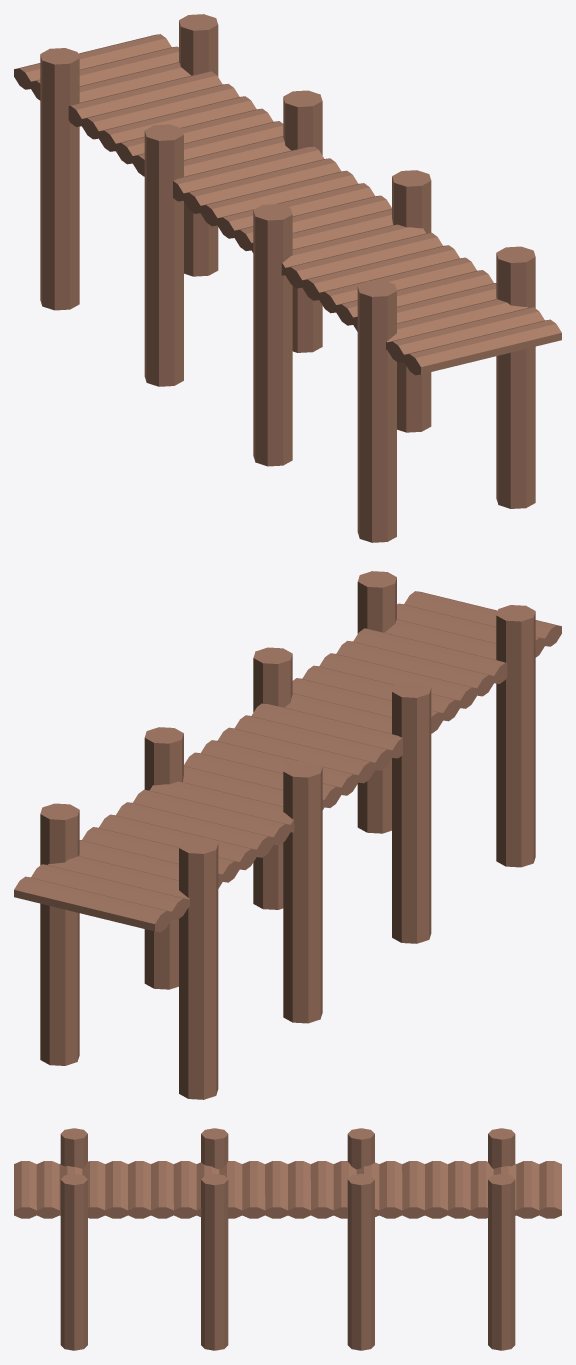
File: Quayside.fbx
The picture shows the model from 3 angles, top to bottom: view 1: azimuth 30°, elevation 25°; view 2: azimuth 150°, elevation 25°; view 3: azimuth 270°, elevation 25°; orthographic projection. The views are drawn at different scales.
Parts seen in each view (by area): view 1: Cube, Cylinder.005, Cylinder.006, Cylinder.004, Cylinder.007, Cylinder.001, Cylinder.002, Cylinder, Cylinder.003; view 2: Cube, Cylinder.004, Cylinder.007, Cylinder.005, Cylinder.006, Cylinder, Cylinder.003, Cylinder.001, Cylinder.002; view 3: Cube, Cylinder, Cylinder.001, Cylinder.002, Cylinder.003, Cylinder.004, Cylinder.005, Cylinder.006, Cylinder.007.
Boxes of the visible parts, left/top/right/bottom form: Cube: left=14, top=34, right=561, bottom=375; Cylinder.005: left=357, top=280, right=396, bottom=542; Cylinder.006: left=253, top=204, right=292, bottom=466; Cylinder.004: left=40, top=48, right=79, bottom=310; Cylinder.007: left=144, top=124, right=183, bottom=386; Cylinder.001: left=496, top=246, right=535, bottom=508; Cylinder.002: left=392, top=170, right=431, bottom=432; Cylinder: left=179, top=14, right=218, bottom=276; Cylinder.003: left=283, top=90, right=322, bottom=352; Cube: left=14, top=591, right=561, bottom=932; Cylinder.004: left=179, top=837, right=218, bottom=1099; Cylinder.007: left=283, top=761, right=322, bottom=1023; Cylinder.005: left=496, top=605, right=535, bottom=867; Cylinder.006: left=392, top=681, right=431, bottom=943; Cylinder: left=40, top=803, right=79, bottom=1065; Cylinder.003: left=144, top=727, right=183, bottom=989; Cylinder.001: left=357, top=571, right=396, bottom=833; Cylinder.002: left=253, top=647, right=292, bottom=909; Cube: left=14, top=1161, right=561, bottom=1218; Cylinder: left=488, top=1173, right=515, bottom=1350; Cylinder.001: left=60, top=1173, right=87, bottom=1350; Cylinder.002: left=201, top=1173, right=228, bottom=1350; Cylinder.003: left=347, top=1173, right=374, bottom=1350; Cylinder.004: left=488, top=1128, right=515, bottom=1168; Cylinder.005: left=60, top=1128, right=87, bottom=1168; Cylinder.006: left=201, top=1128, right=228, bottom=1169; Cylinder.007: left=347, top=1128, right=374, bottom=1169.
Size of the model in its own units: 370 by 500 by 1500.
